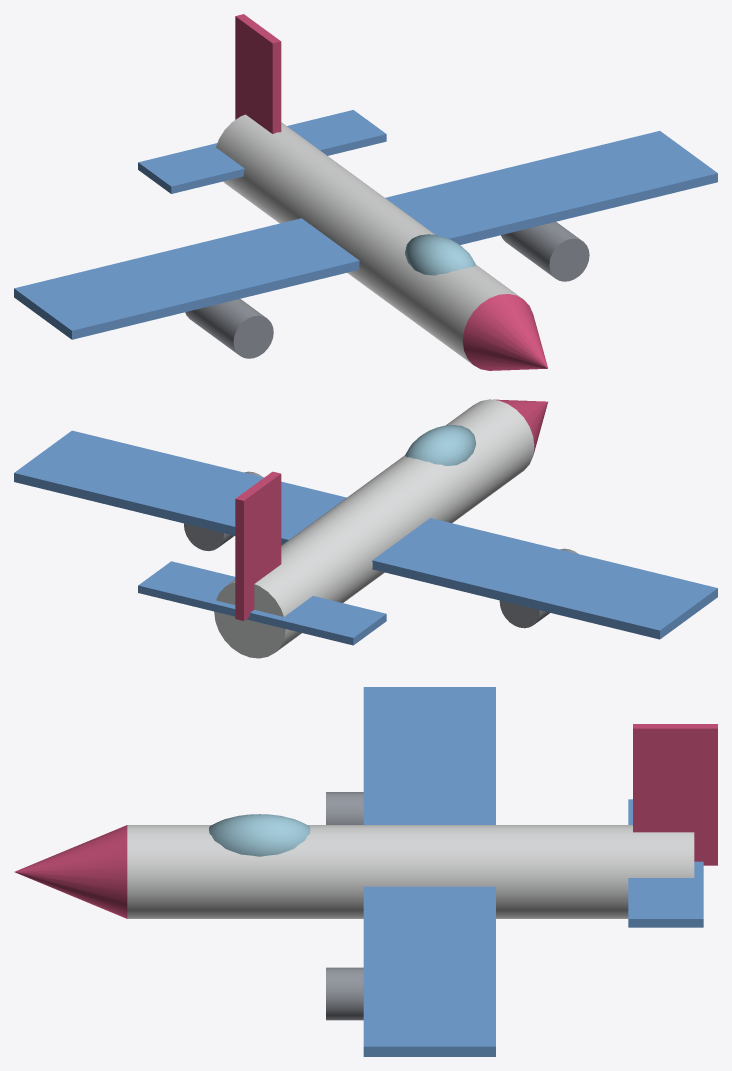
The model's file is airplane.glb.
3 views of the same model, one above another, from view 1: azimuth 30°, elevation 25°; view 2: azimuth 150°, elevation 25°; view 3: azimuth 270°, elevation 25° (orthographic). The views are drawn at different scales.
Bounding box in the file's own units: 9 × 2.38 × 7.45.
